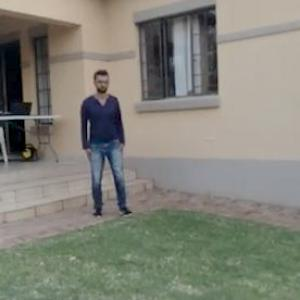follow: (80, 61, 128, 228)
